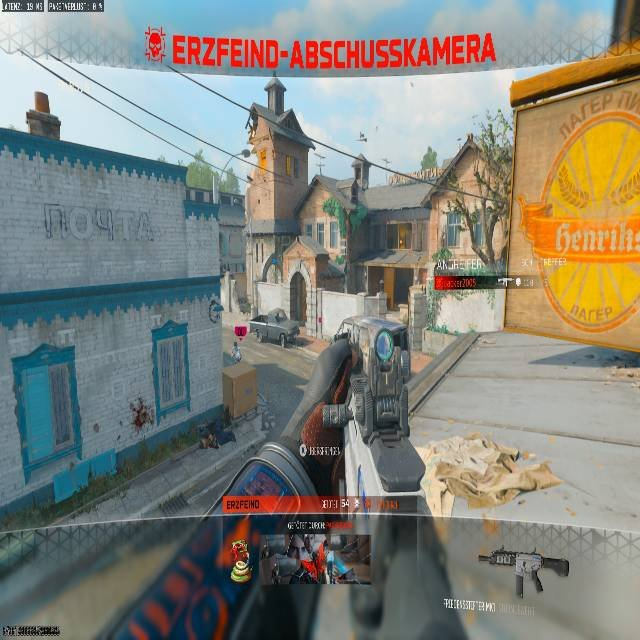player: (24, 91, 62, 139), (208, 296, 222, 323), (231, 340, 241, 363)
